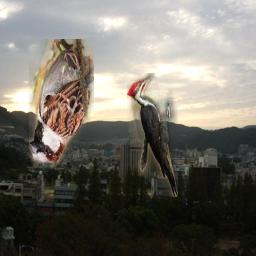Sparrow: (29, 39, 94, 169)
Woodpecker: (127, 73, 178, 197)
